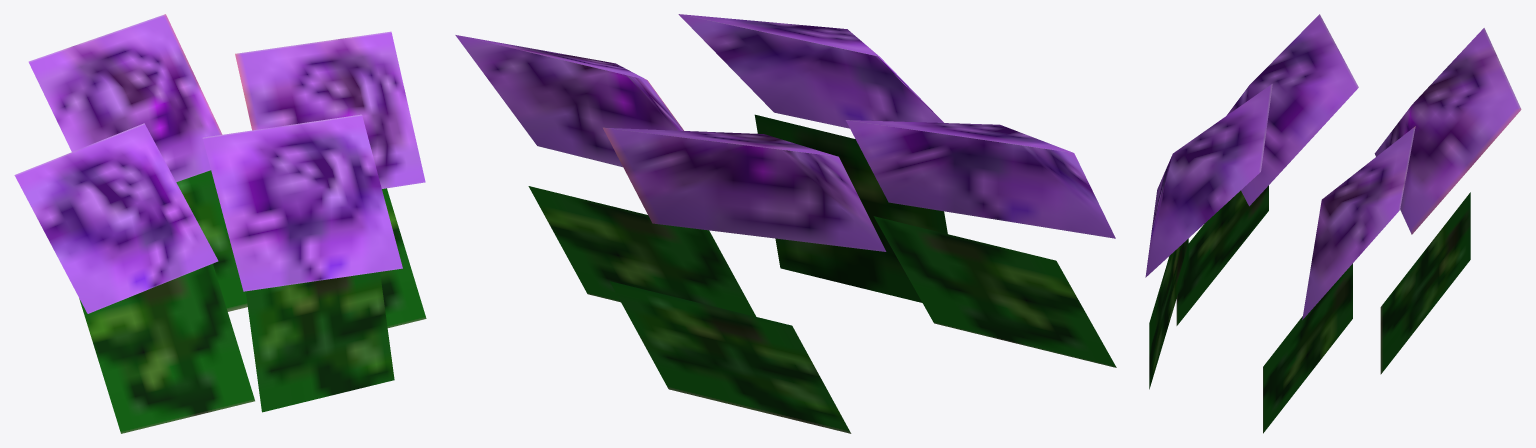
The model's file is flw_rose_vi.dae.
The picture shows the model from 3 angles, left to right: view 1: azimuth 30°, elevation 25°; view 2: azimuth 150°, elevation 25°; view 3: azimuth 270°, elevation 25°; orthographic projection. The views are drawn at different scales.
Visible parts, largest first — view 1: flw_rose_vi; view 2: flw_rose_vi; view 3: flw_rose_vi.
Part boxes in pixels (box(x1,y1,x2,y2)): flw_rose_vi: box(14, 14, 426, 433); flw_rose_vi: box(455, 14, 1116, 433); flw_rose_vi: box(1145, 14, 1521, 433).
Size of the model in its own units: 33.43 by 19.21 by 25.27.
1 material, 1 textured.
